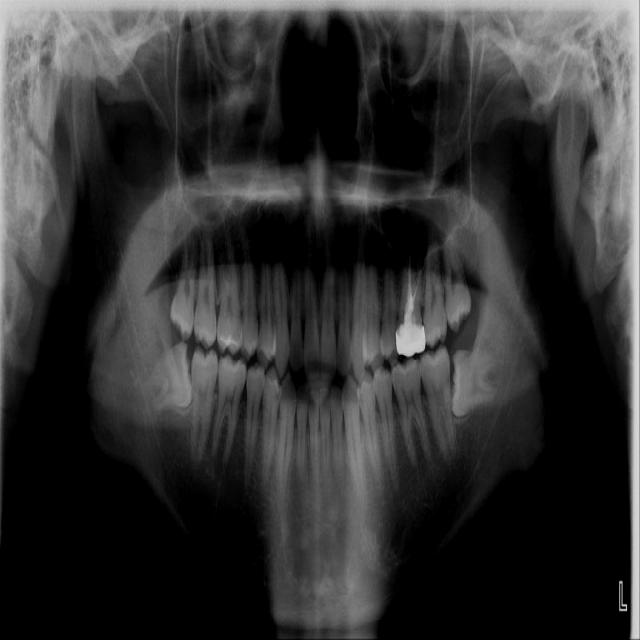Crown: (396, 326, 426, 359)
Filling: (404, 311, 414, 328)
Root Canal Treatment: (412, 268, 420, 295), (407, 256, 412, 298), (407, 266, 408, 291)
impacted tooth: (451, 349, 507, 416), (141, 344, 191, 414)
